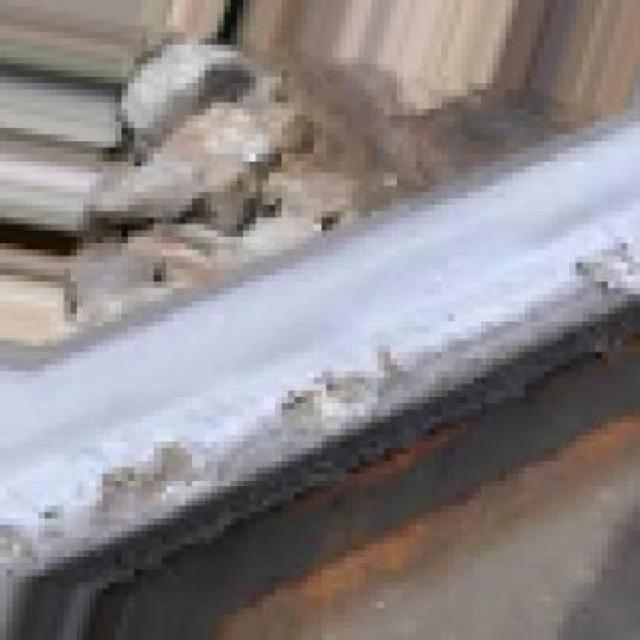defective: (0, 175, 640, 603)
